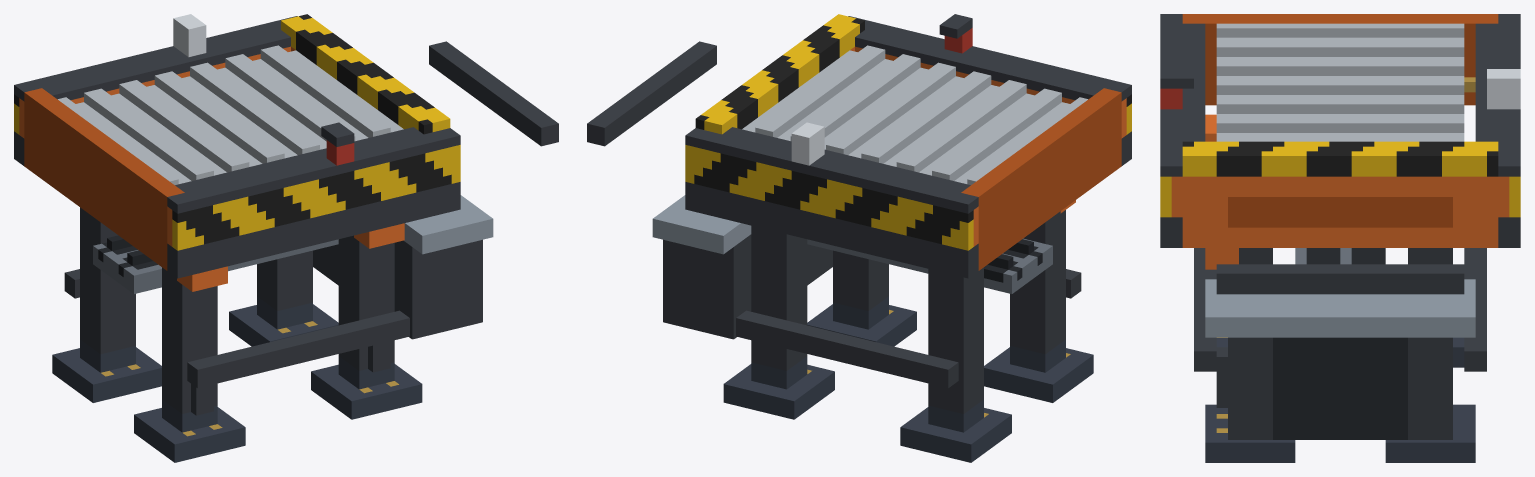
File: conveyor_endstop.obj
3 views of the same model, side by side, from view 1: azimuth 30°, elevation 25°; view 2: azimuth 150°, elevation 25°; view 3: azimuth 270°, elevation 25° (orthographic). The views are drawn at different scales.
Visible parts, largest first — view 1: conveyor_endstop; view 2: conveyor_endstop; view 3: conveyor_endstop.
Part boxes in pixels (x1,y1,x2,y2): conveyor_endstop: (14,14,558,462); conveyor_endstop: (587,14,1131,462); conveyor_endstop: (1160,14,1520,462).
Bounding box in the file's own units: 1.44 × 1.03 × 1.
